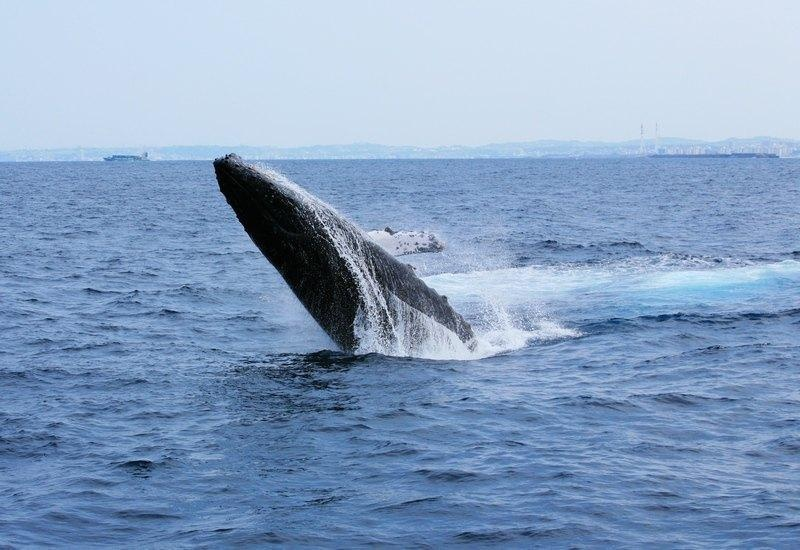fish: (198, 153, 489, 360)
